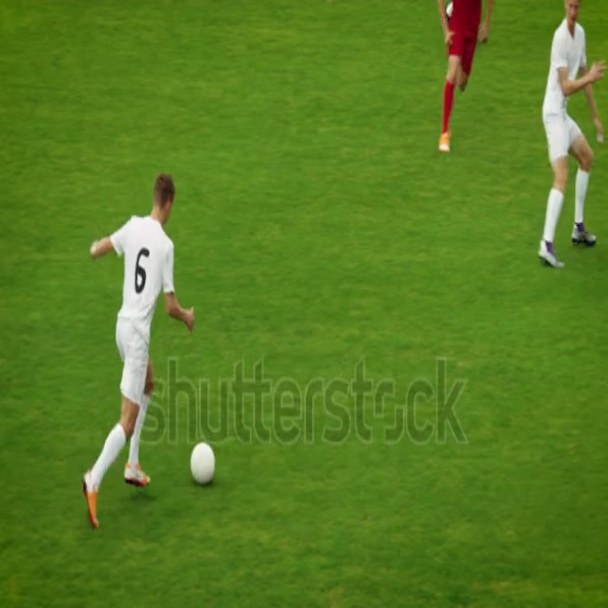ball: (187, 439, 219, 488)
